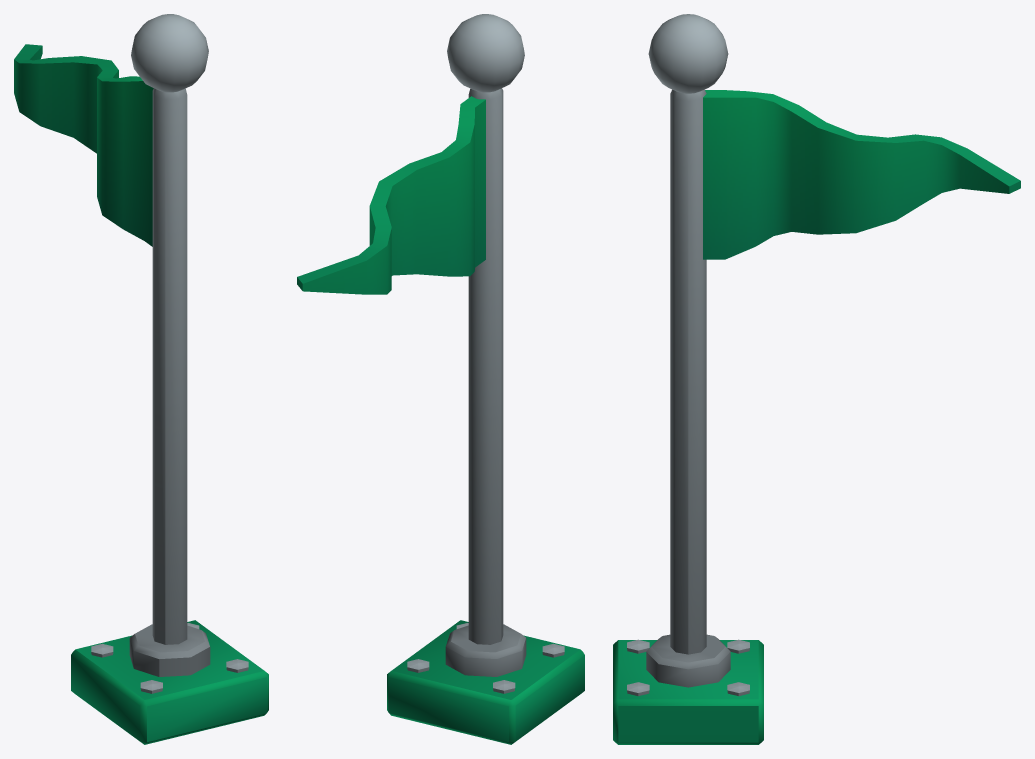
File: flag_B_green.glb
3 views of the same model, side by side, from view 1: azimuth 30°, elevation 25°; view 2: azimuth 150°, elevation 25°; view 3: azimuth 270°, elevation 25° (orthographic).
Visible parts, largest first — view 1: flag_B_green; view 2: flag_B_green; view 3: flag_B_green.
Boxes of the visible parts, x1,y1,x2,y2 form: flag_B_green: [14, 14, 268, 744]; flag_B_green: [297, 14, 584, 744]; flag_B_green: [613, 14, 1020, 744].
Size of the model in its own units: 0.6 by 3.06 by 1.62.
1 material, 1 textured.
